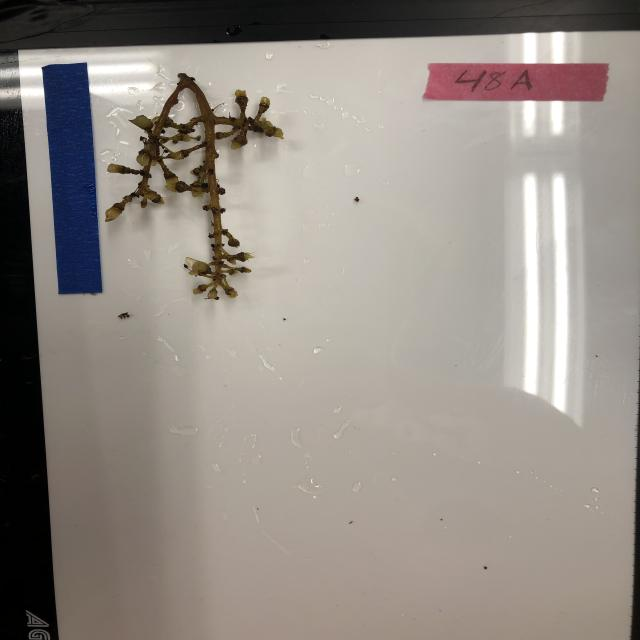index: (419, 59, 615, 103)
measure_label: (41, 59, 106, 295)
rachis_cluster: (103, 69, 286, 306)
